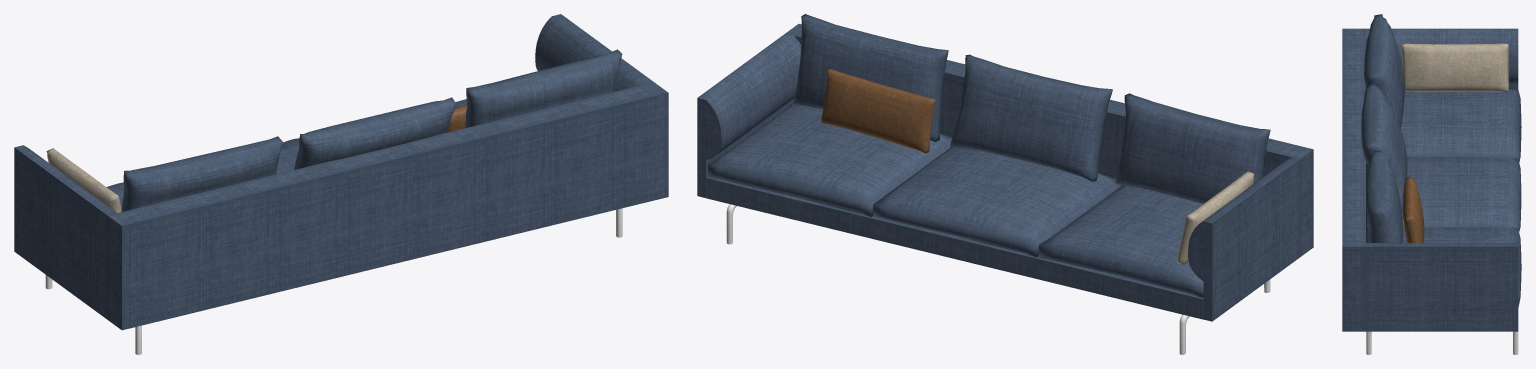
Rendered from SM_Hall_Sofa.fbx.
3 renders of one model, left to right at view 1: azimuth 30°, elevation 25°; view 2: azimuth 150°, elevation 25°; view 3: azimuth 270°, elevation 25°, orthographic. The views are drawn at different scales.
Visible parts, largest first — view 1: SM_Hall_Sofa; view 2: SM_Hall_Sofa; view 3: SM_Hall_Sofa.
Boxes of the visible parts, box(x1,y1,x2,y2) form: SM_Hall_Sofa: box(14, 14, 668, 354); SM_Hall_Sofa: box(697, 14, 1313, 354); SM_Hall_Sofa: box(1342, 14, 1521, 354).
Size of the model in its own units: 272 by 85.63 by 94.47.
1 material, 1 textured.
